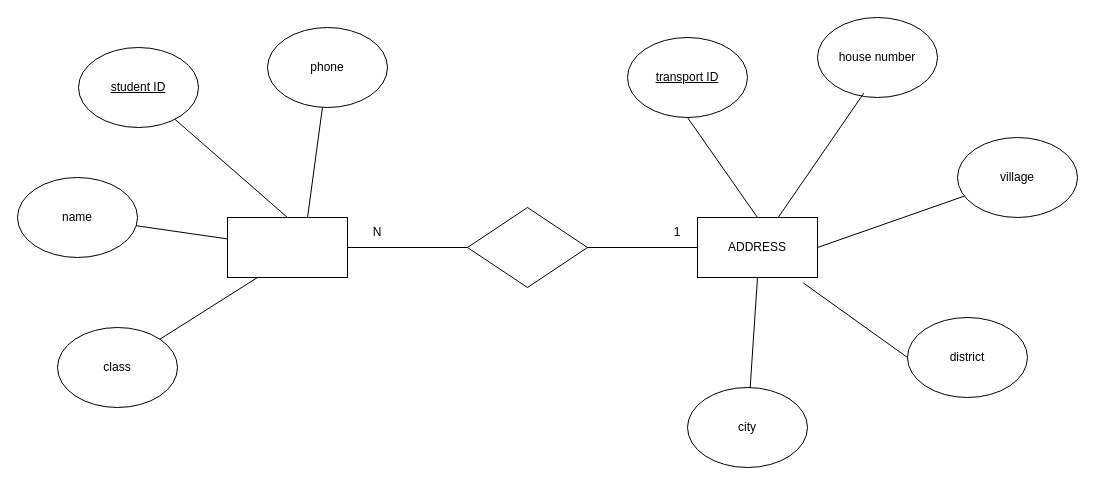
Some shapes in this 1095 by 485 pixel diagram are drawn without their labels. Here are the shapes that lost their labels. From the top down, the box of each, then its label:
(226, 216, 348, 278): STUDENTS
(466, 206, 588, 288): in
